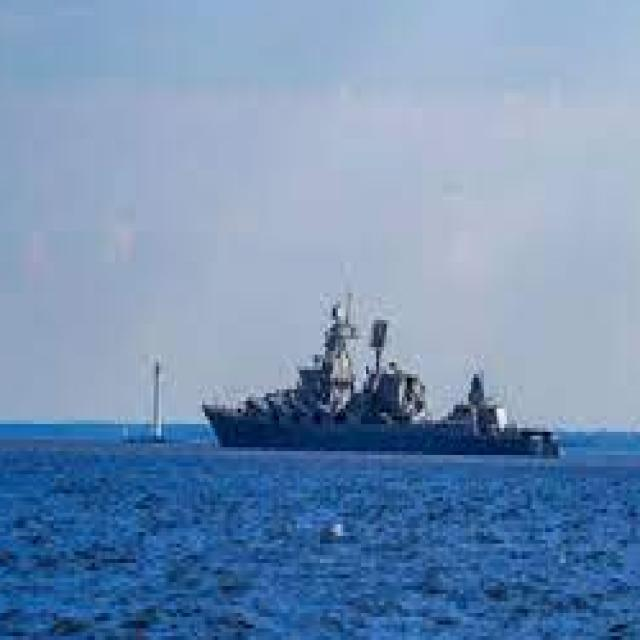navalvessels: (198, 310, 570, 475)
